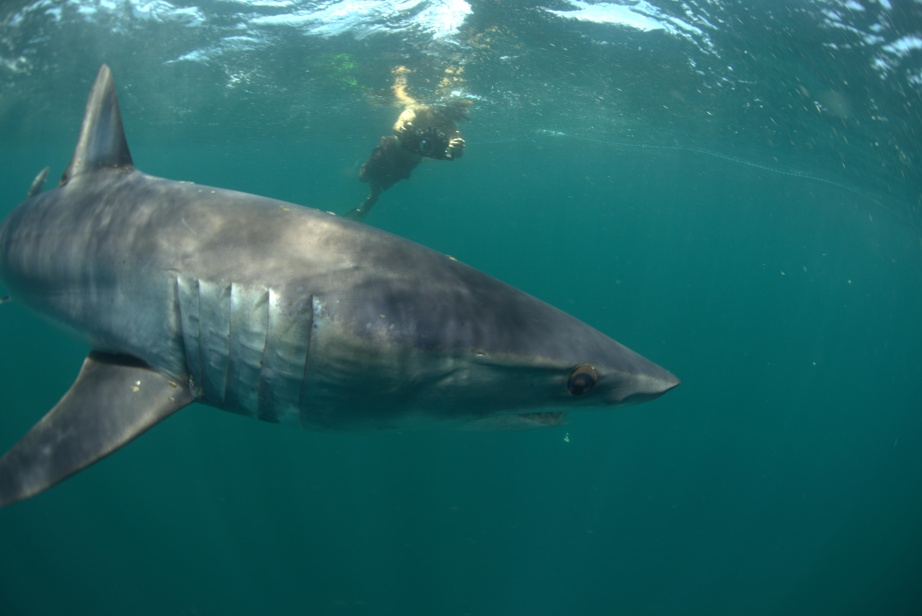Mako: (1, 57, 689, 501)
